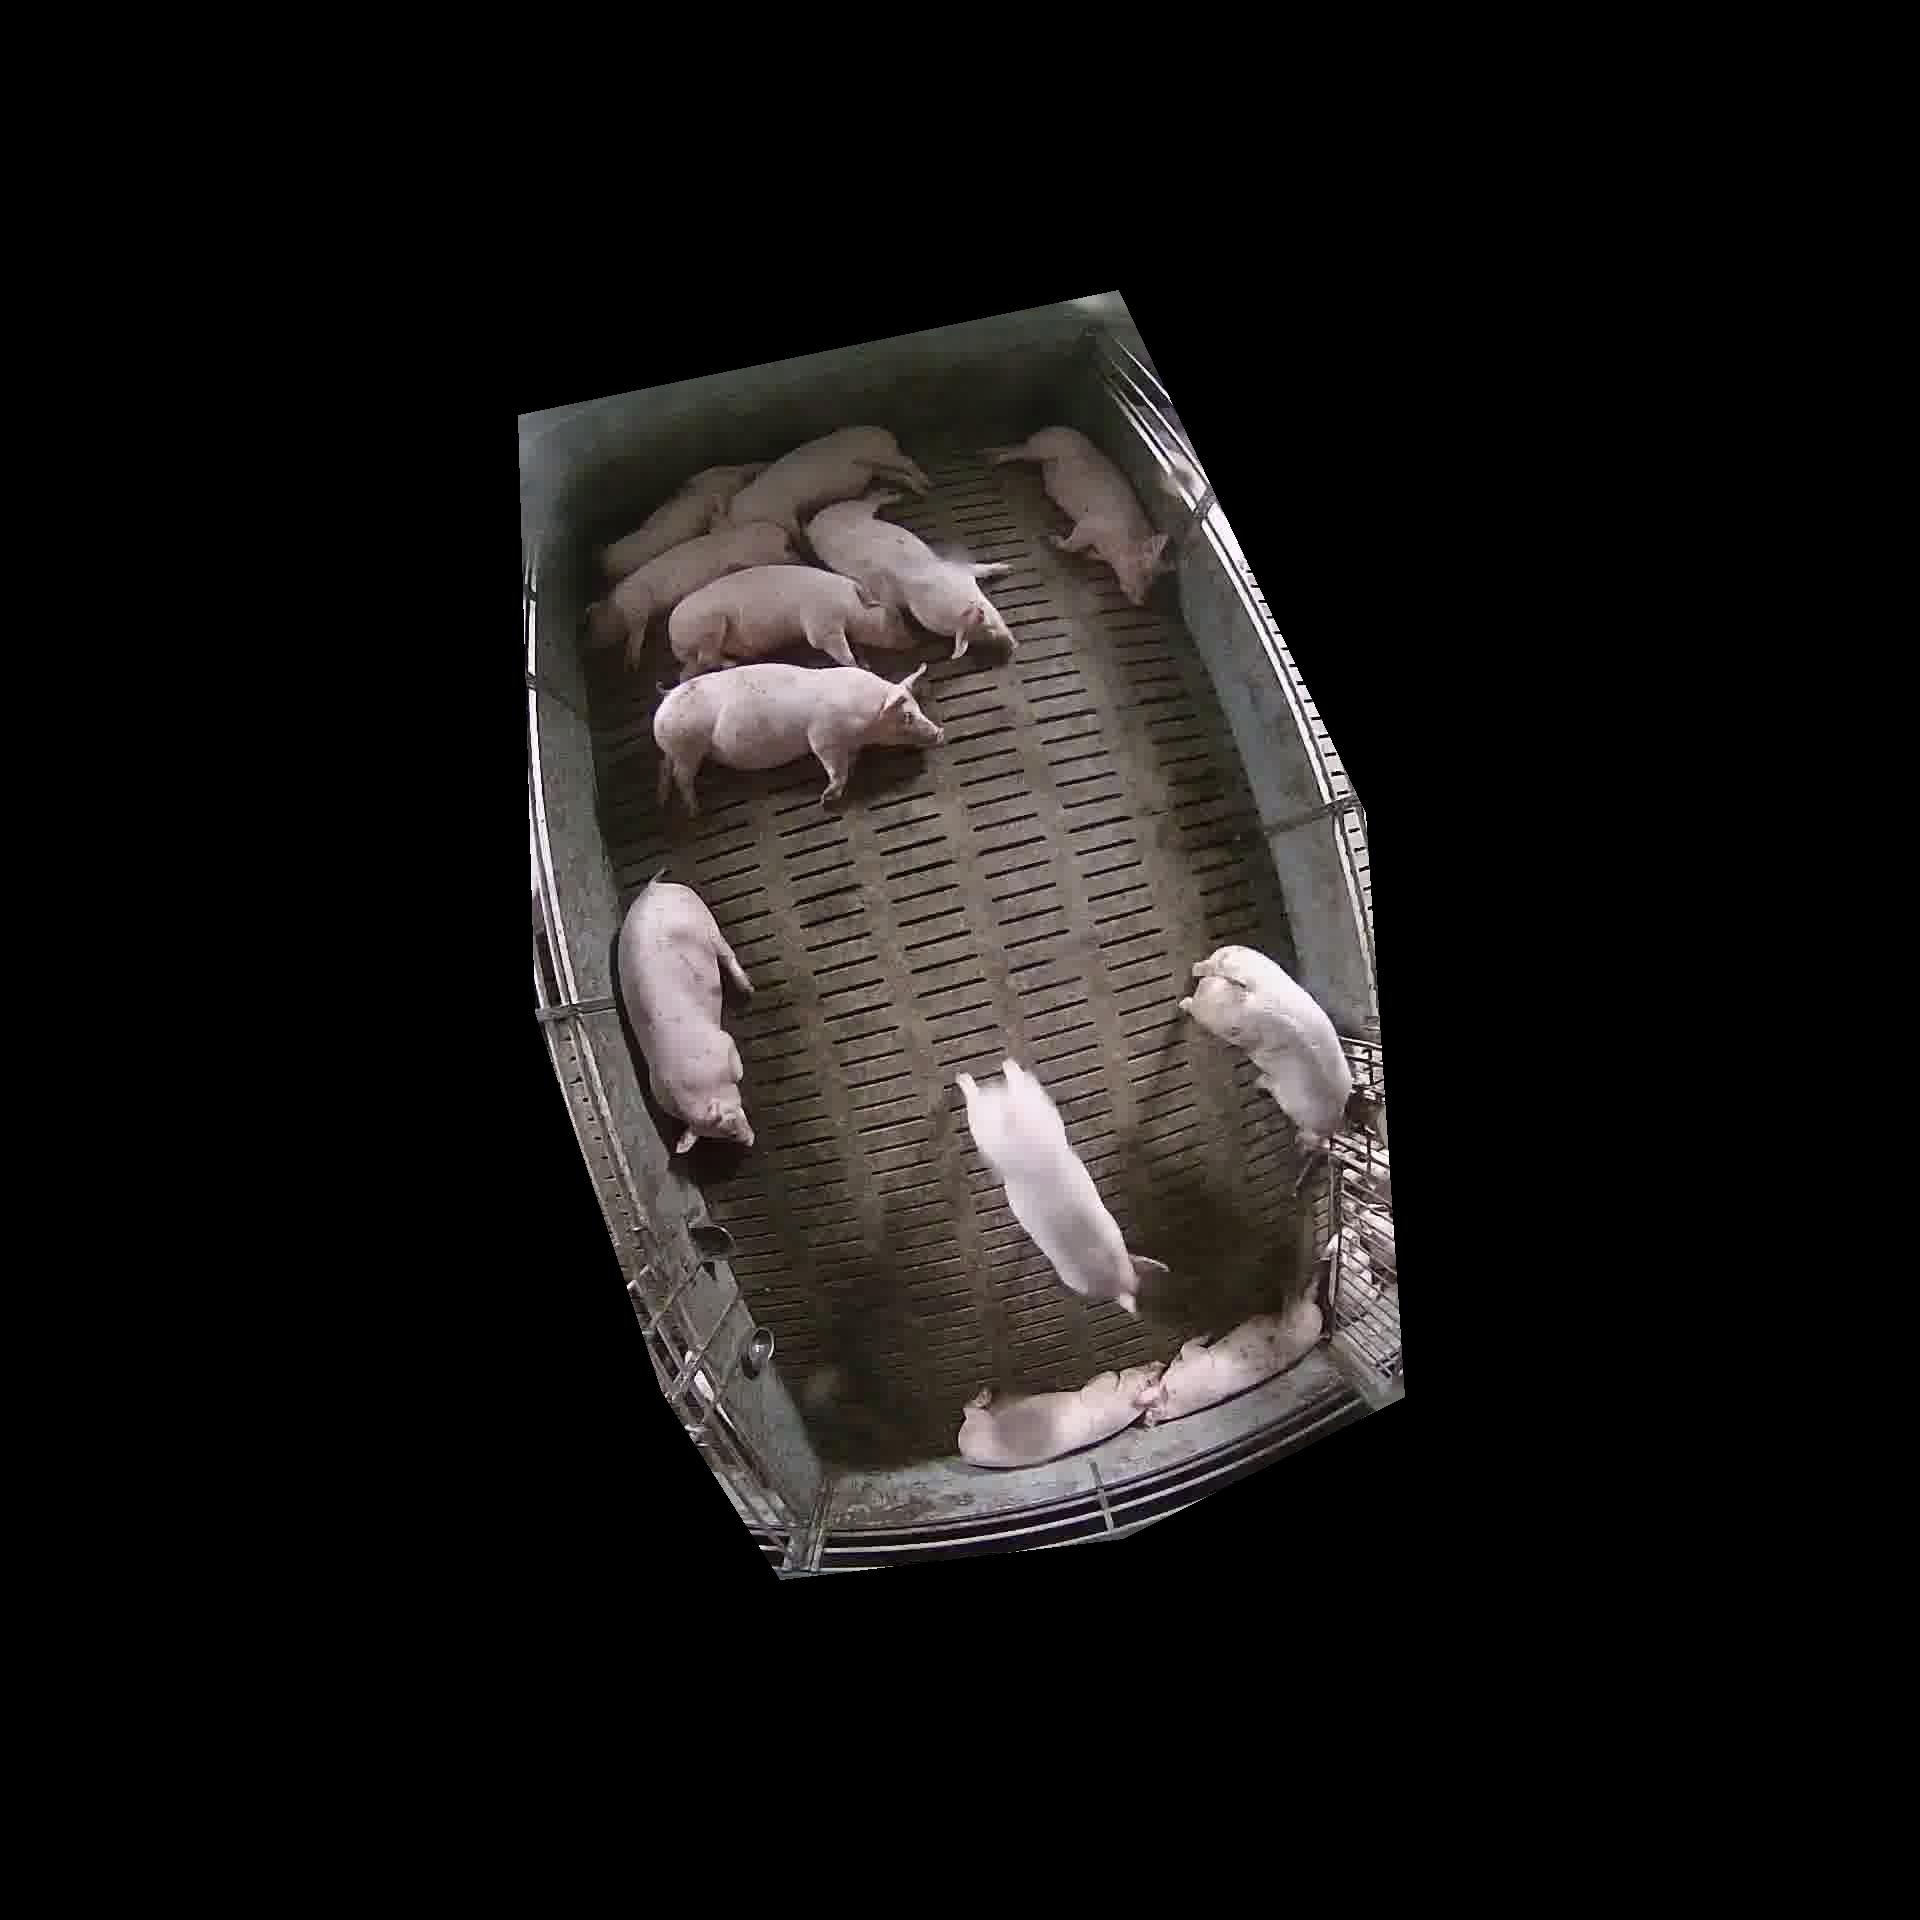pig: (956, 1058, 1138, 1312), (654, 663, 942, 814), (617, 879, 753, 1152), (1182, 944, 1352, 1153), (805, 492, 1015, 658), (986, 425, 1166, 605), (587, 522, 795, 666), (668, 564, 914, 679), (1143, 1292, 1322, 1422), (728, 425, 928, 536), (958, 1363, 1162, 1466), (598, 462, 765, 578)
